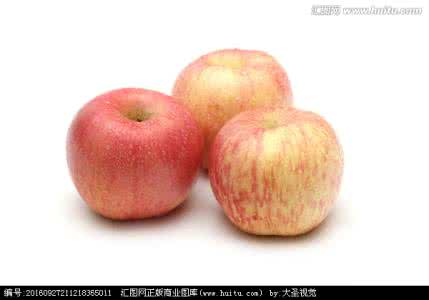apple: (66, 90, 203, 218), (214, 106, 341, 239), (169, 48, 305, 164)
